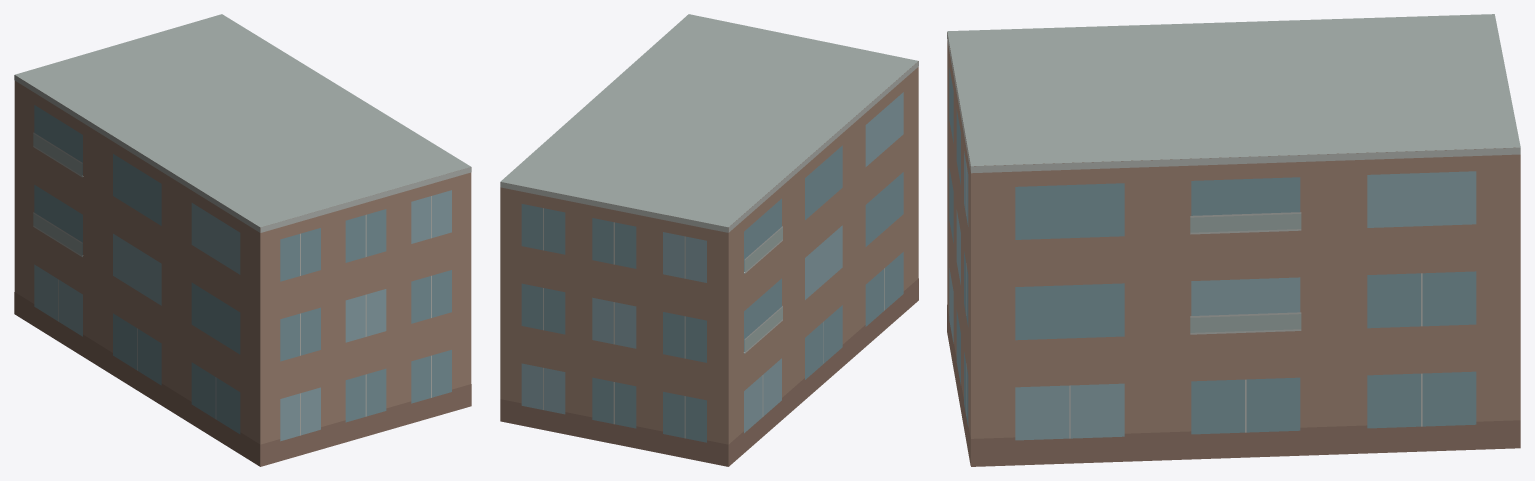
The model's file is survey-upis-32843782.glb.
3 views of the same model, side by side, from view 1: azimuth 30°, elevation 25°; view 2: azimuth 150°, elevation 25°; view 3: azimuth 270°, elevation 25° (orthographic). The views are drawn at different scales.
Parts seen in each view (by area): view 1: survey-upis-32843782.tmp; view 2: survey-upis-32843782.tmp; view 3: survey-upis-32843782.tmp.
Part boxes in pixels (bbox=[...]): survey-upis-32843782.tmp: bbox=[14, 14, 471, 466]; survey-upis-32843782.tmp: bbox=[500, 14, 918, 466]; survey-upis-32843782.tmp: bbox=[947, 14, 1520, 466].
Bounding box in the file's own units: 11.41 × 10.5 × 18.17.
